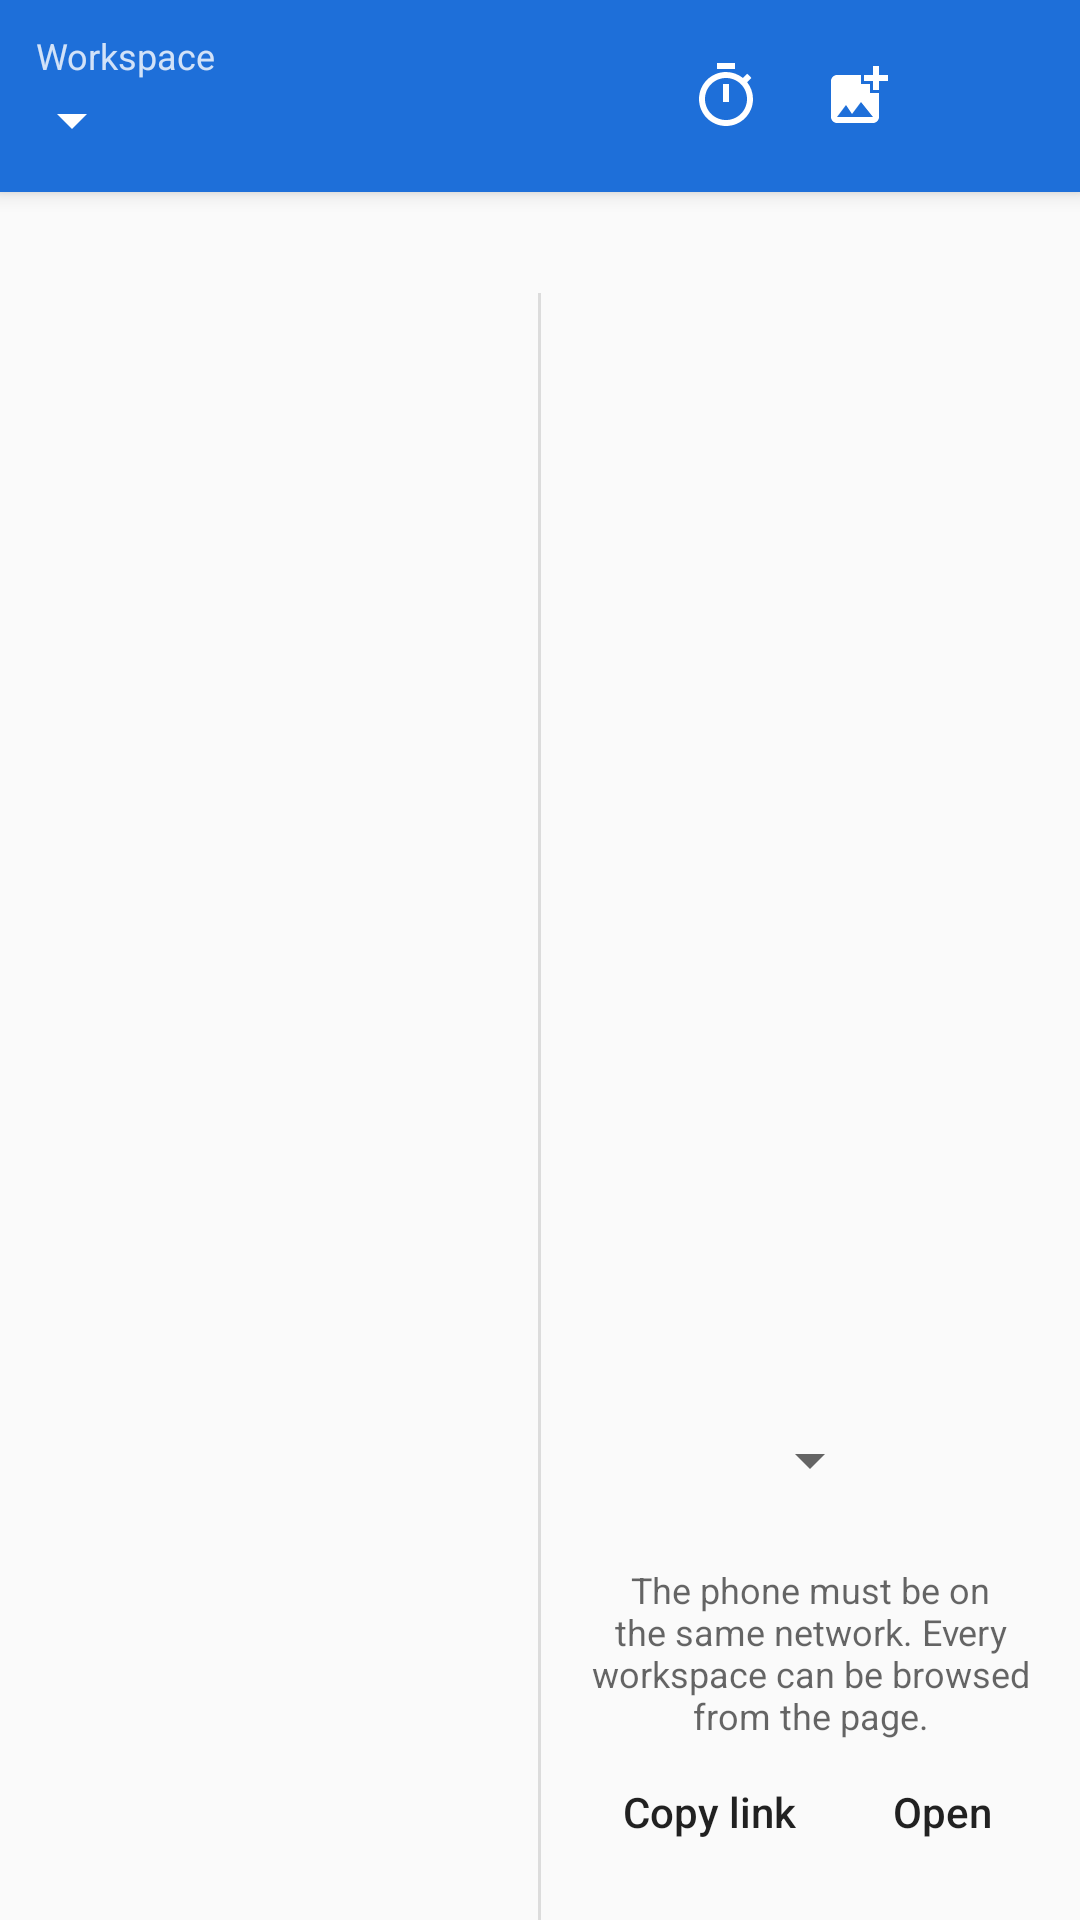

Where to tap for icons on this 1080*1920 app screen, as (x=x, y=y):
Add images: (x=859, y=94)
Screenshot in 3 s: (x=726, y=94)
